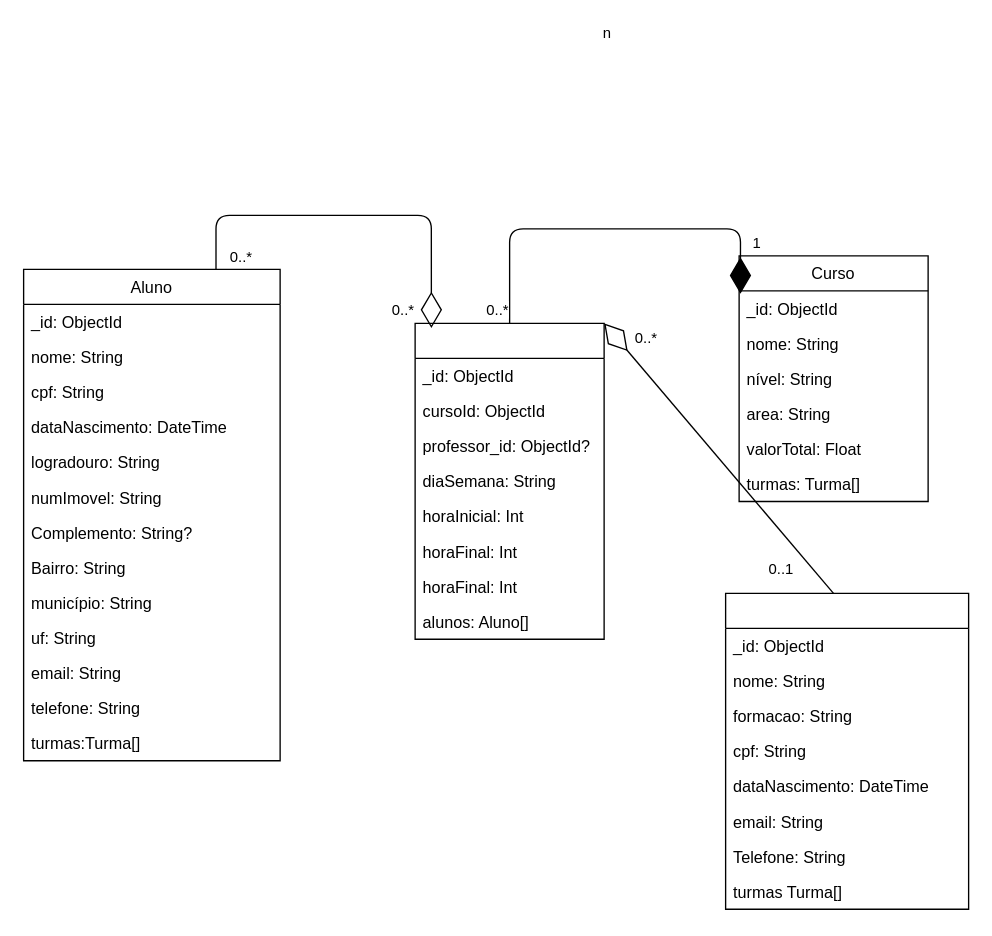
Image size: 992x936. Some labels were removed from this diagram. The shapes that lost their labels are listed below. From the top down, each one's box as (x1, y1, x2, y2) in pixels, then its label:
(414, 322, 604, 639): Turma
(724, 592, 969, 909): Professor
